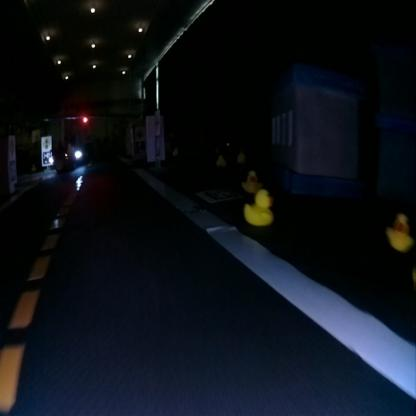Duckie: (244, 191, 272, 225), (388, 214, 410, 250), (242, 170, 258, 191), (216, 157, 224, 165), (237, 155, 243, 161)
QR code: (197, 187, 239, 203), (42, 151, 51, 164)
Signal sign: (42, 138, 50, 148)
Traffic light: (81, 115, 88, 122)
